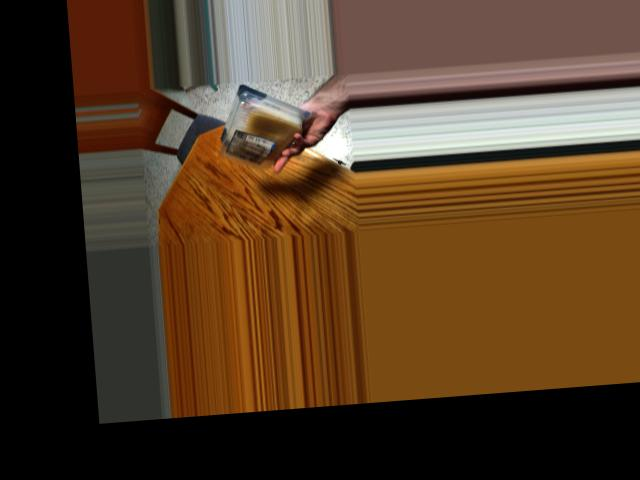cheese: (214, 86, 314, 158)
